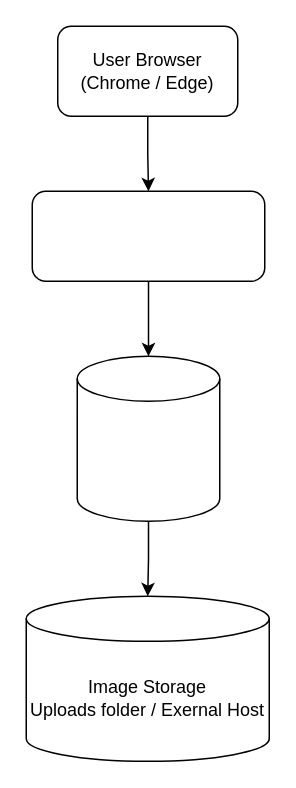
This 296x788 diagram has some shape labels left out. The shapes that lost their labels are listed below. From the top down, each one's centre as x and y in pixels, then its label:
(148,235): Gallera Web App Spring Boot + ThymeLeaf Spring Security
(148,438): Database PostgreSQL Neon Cloud DB
